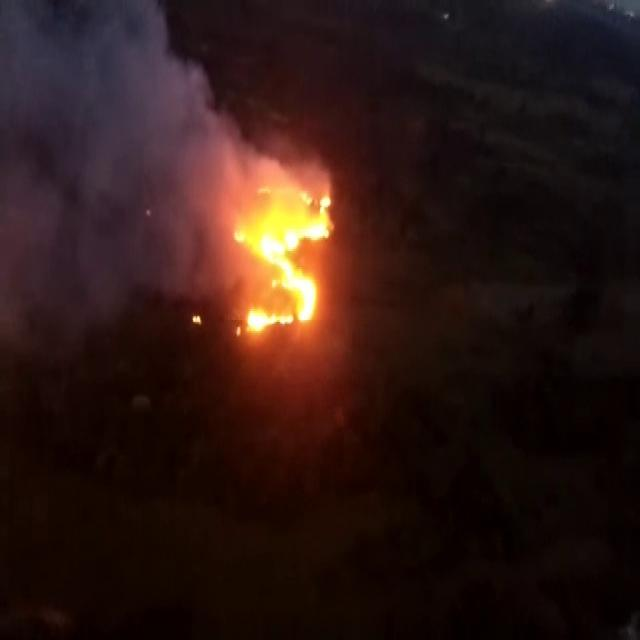Fire: (236, 172, 333, 334)
Smoke: (3, 7, 346, 313)
